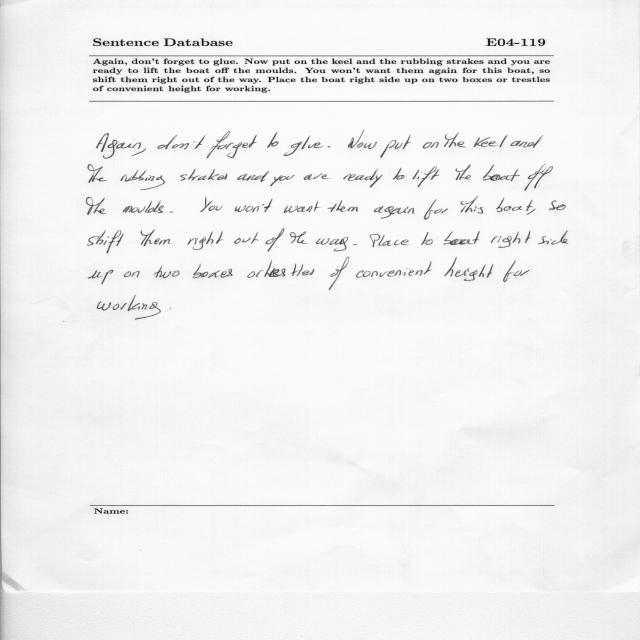word: (97, 295, 161, 320), (206, 131, 257, 158), (356, 261, 432, 278), (97, 133, 146, 159), (445, 257, 494, 281), (120, 170, 165, 190), (88, 230, 124, 254), (265, 260, 315, 277), (284, 136, 324, 156), (524, 164, 553, 191), (343, 169, 383, 188), (380, 135, 411, 158), (187, 231, 223, 250), (491, 231, 531, 248), (329, 257, 349, 290), (503, 260, 530, 282), (483, 165, 520, 181), (181, 169, 228, 181), (193, 264, 233, 278), (413, 167, 439, 188), (123, 201, 164, 214), (348, 131, 377, 149), (369, 234, 409, 247), (496, 198, 533, 212), (443, 231, 480, 245), (141, 230, 171, 247), (235, 199, 273, 212), (374, 206, 415, 218), (424, 200, 448, 220), (172, 136, 205, 150), (538, 230, 568, 245), (316, 237, 348, 251), (284, 201, 320, 213), (266, 228, 284, 252), (511, 135, 544, 148), (474, 135, 508, 147), (86, 197, 107, 215), (461, 197, 483, 214), (88, 164, 107, 183), (328, 200, 358, 212), (237, 171, 269, 182), (89, 270, 114, 284), (200, 198, 223, 212), (154, 266, 180, 278), (444, 133, 466, 147), (234, 232, 259, 244), (158, 135, 178, 149), (270, 175, 295, 186), (455, 165, 471, 181), (290, 231, 308, 244), (303, 173, 329, 180), (267, 133, 279, 148), (549, 201, 566, 211), (421, 232, 433, 245), (393, 168, 405, 180), (247, 270, 264, 278), (423, 142, 439, 149), (124, 271, 140, 277), (526, 209, 536, 215), (142, 304, 147, 310), (170, 211, 173, 213), (353, 244, 357, 245), (327, 146, 330, 147)
